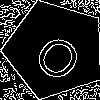O: (30, 24, 91, 85)
